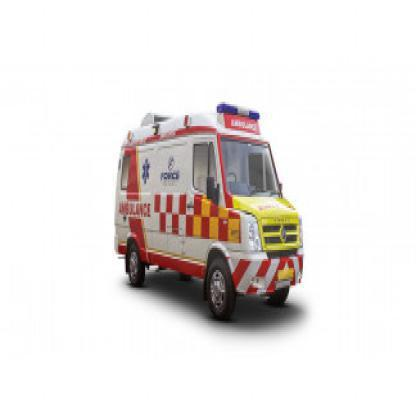Ambulance - v1 Ambulance last generate: (111, 102, 305, 321)
